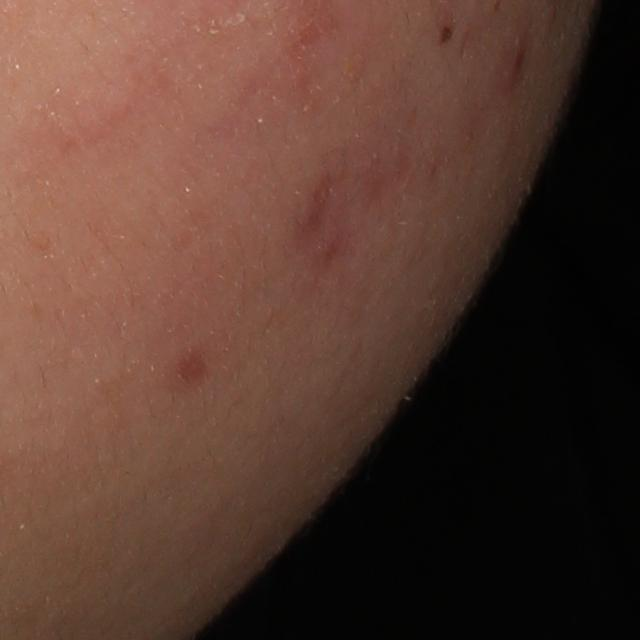nevus: (439, 25, 456, 45)
papule: (495, 35, 532, 97)
